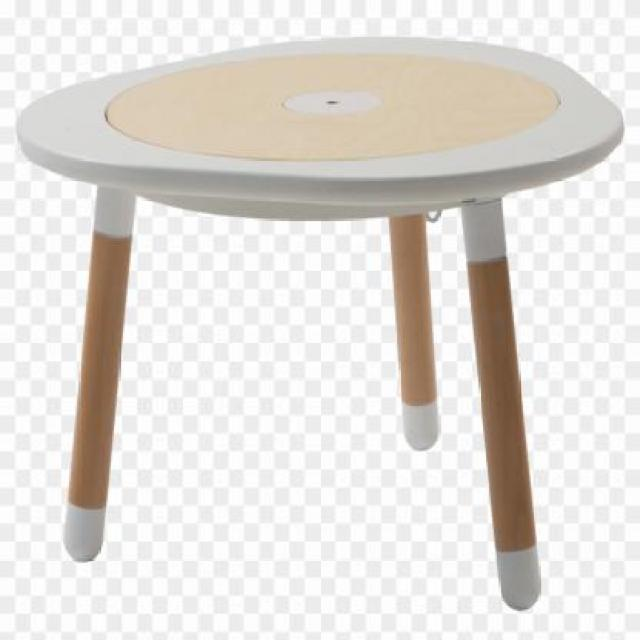table: (16, 33, 626, 615)
